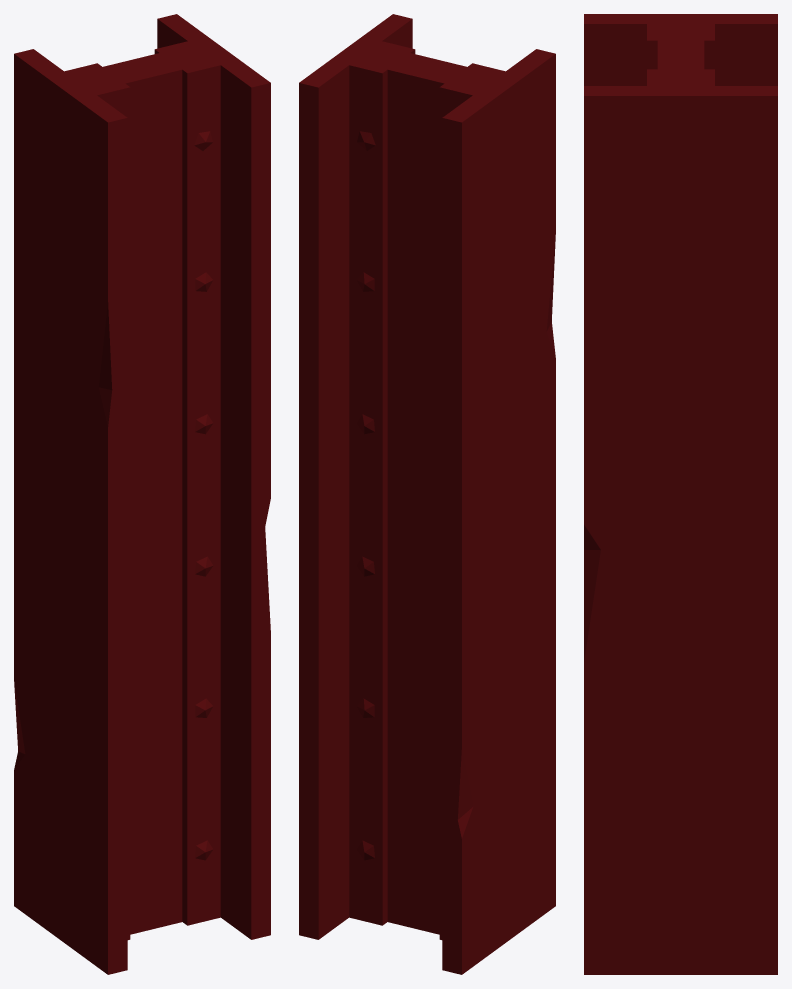
File: SW_ENV_PillarGirderMid_2m.fbx
3 renders of one model, left to right at view 1: azimuth 30°, elevation 25°; view 2: azimuth 150°, elevation 25°; view 3: azimuth 270°, elevation 25°, orthographic. The views are drawn at different scales.
Visible parts, largest first — view 1: SW_ENV_PillarGirderMid_2m; view 2: SW_ENV_PillarGirderMid_2m; view 3: SW_ENV_PillarGirderMid_2m.
Boxes of the visible parts, box(x1,y1,x2,y2) form: SW_ENV_PillarGirderMid_2m: box(14, 14, 270, 974); SW_ENV_PillarGirderMid_2m: box(299, 14, 555, 974); SW_ENV_PillarGirderMid_2m: box(584, 14, 777, 974).
Size of the model in its own units: 40 by 200 by 40.
